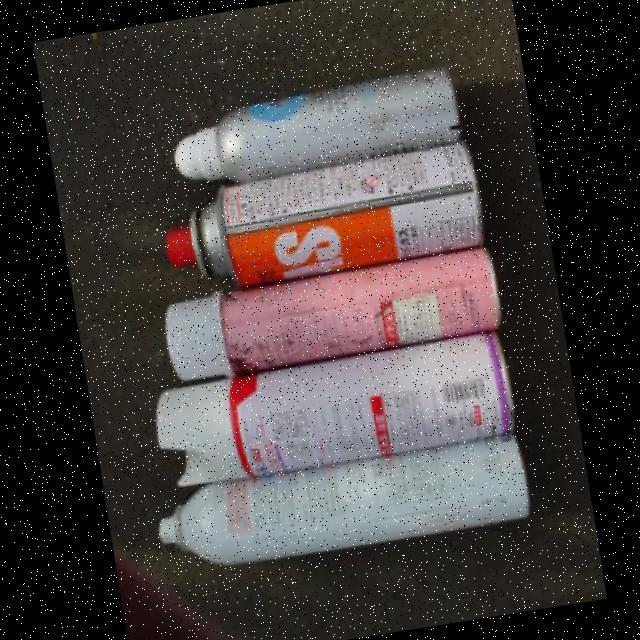chemical_spray_can: (156, 331, 515, 486), (160, 433, 528, 564), (165, 139, 481, 286), (164, 246, 502, 379), (176, 64, 463, 179)
